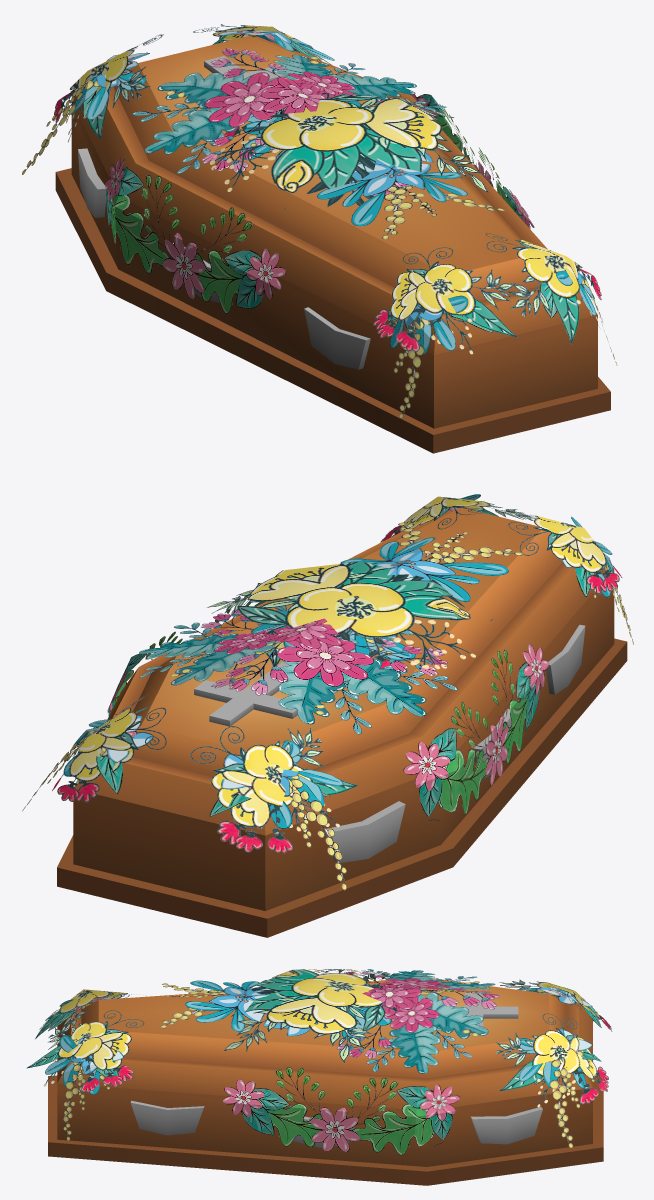
Rendered from FlowerCoffin.fbx.
The picture shows the model from 3 angles, top to bottom: view 1: azimuth 30°, elevation 25°; view 2: azimuth 150°, elevation 25°; view 3: azimuth 270°, elevation 25°; orthographic projection. The views are drawn at different scales.
Visible parts, largest first — view 1: Coffin, FlowerWreath_01, FlowerWreath_03, FlowerWreath_02; view 2: Coffin, FlowerWreath_01, FlowerWreath_03, FlowerWreath_02, Crost; view 3: Coffin, FlowerWreath_03, FlowerWreath_01, FlowerWreath_02, Crost.
Boxes of the visible parts, bbox=[...] form: Coffin: bbox=[55, 36, 610, 453]; FlowerWreath_01: bbox=[54, 24, 601, 354]; FlowerWreath_03: bbox=[82, 31, 557, 332]; FlowerWreath_02: bbox=[22, 30, 617, 418]; Coffin: bbox=[57, 508, 627, 937]; FlowerWreath_01: bbox=[52, 496, 622, 853]; FlowerWreath_03: bbox=[96, 507, 594, 820]; FlowerWreath_02: bbox=[22, 494, 633, 890]; Crost: bbox=[194, 661, 297, 726]; Coffin: bbox=[48, 977, 603, 1185]; FlowerWreath_03: bbox=[48, 969, 601, 1155]; FlowerWreath_01: bbox=[26, 969, 612, 1107]; FlowerWreath_02: bbox=[45, 980, 594, 1147]; Crost: bbox=[454, 992, 518, 1032].
Size of the model in its own units: 1.11 by 0.5559 by 2.34.
